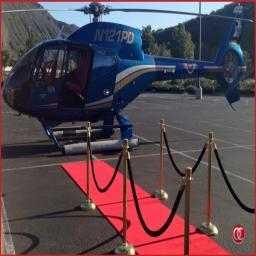helicopter: (7, 2, 252, 164)
